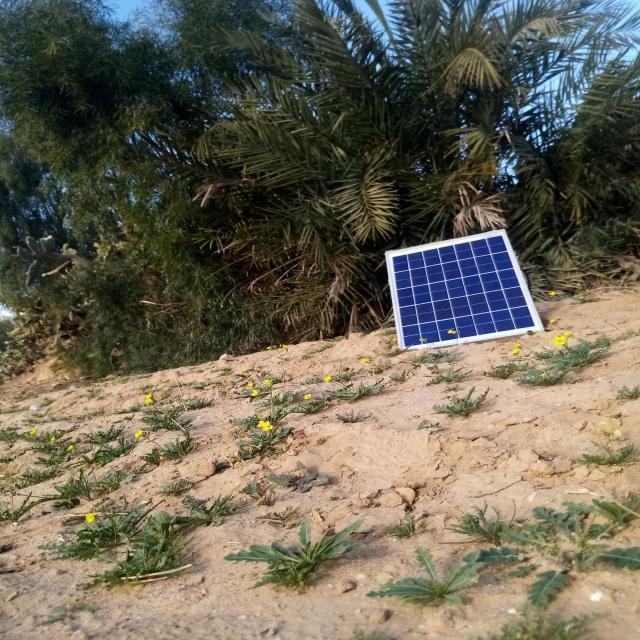Normal Solar Panel: (387, 230, 542, 349)
